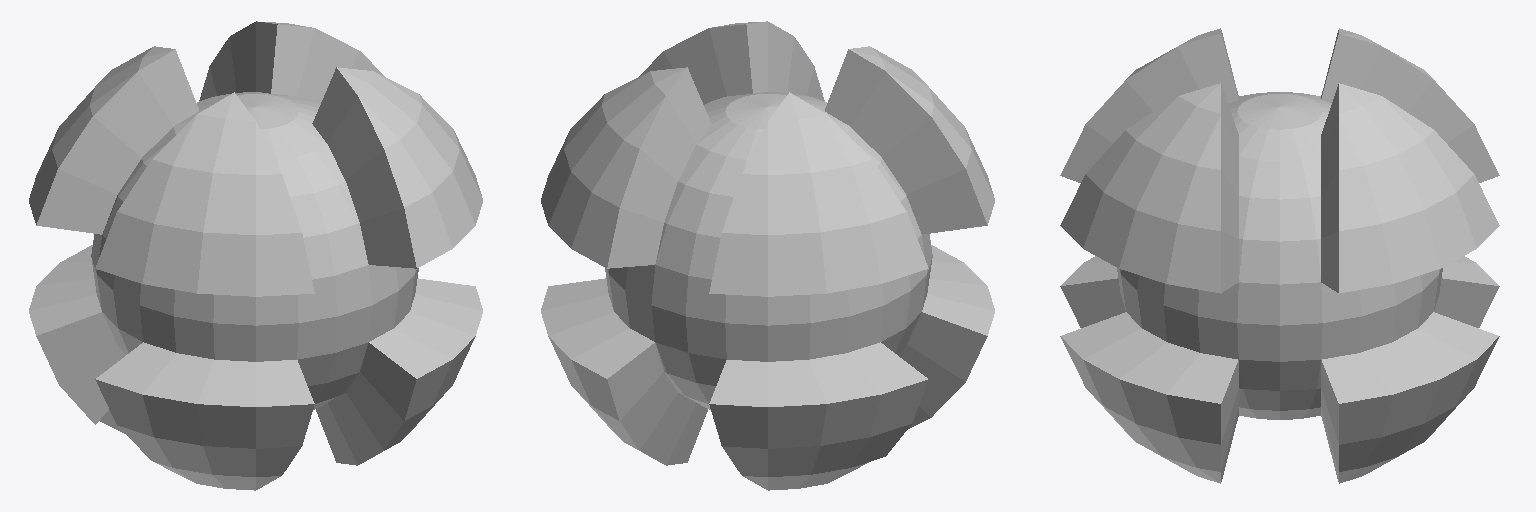
Rendered from TestBall.obj.
The picture shows the model from 3 angles: view 1: azimuth 30°, elevation 25°; view 2: azimuth 150°, elevation 25°; view 3: azimuth 270°, elevation 25°; orthographic projection.
Visible parts, largest first — view 1: TestBall.obj; view 2: TestBall.obj; view 3: TestBall.obj.
Boxes of the visible parts, x1=… form: TestBall.obj: x1=29, y1=21, x2=482, y2=490; TestBall.obj: x1=541, y1=21, x2=994, y2=490; TestBall.obj: x1=1060, y1=28, x2=1499, y2=483.
Size of the model in its own units: 0.3732 by 0.3707 by 0.3732.